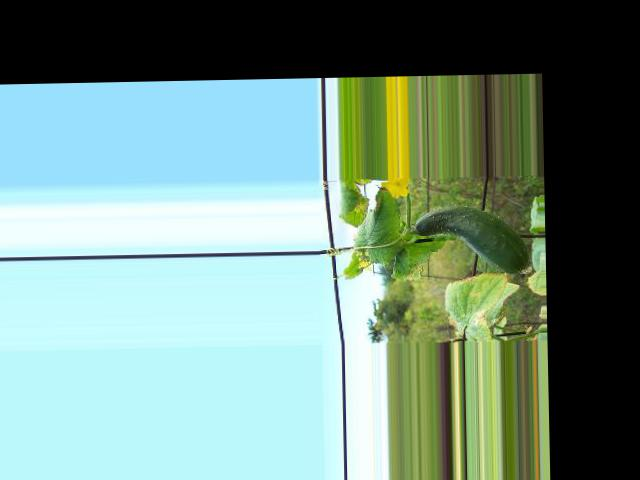cucumber: (413, 204, 529, 276)
